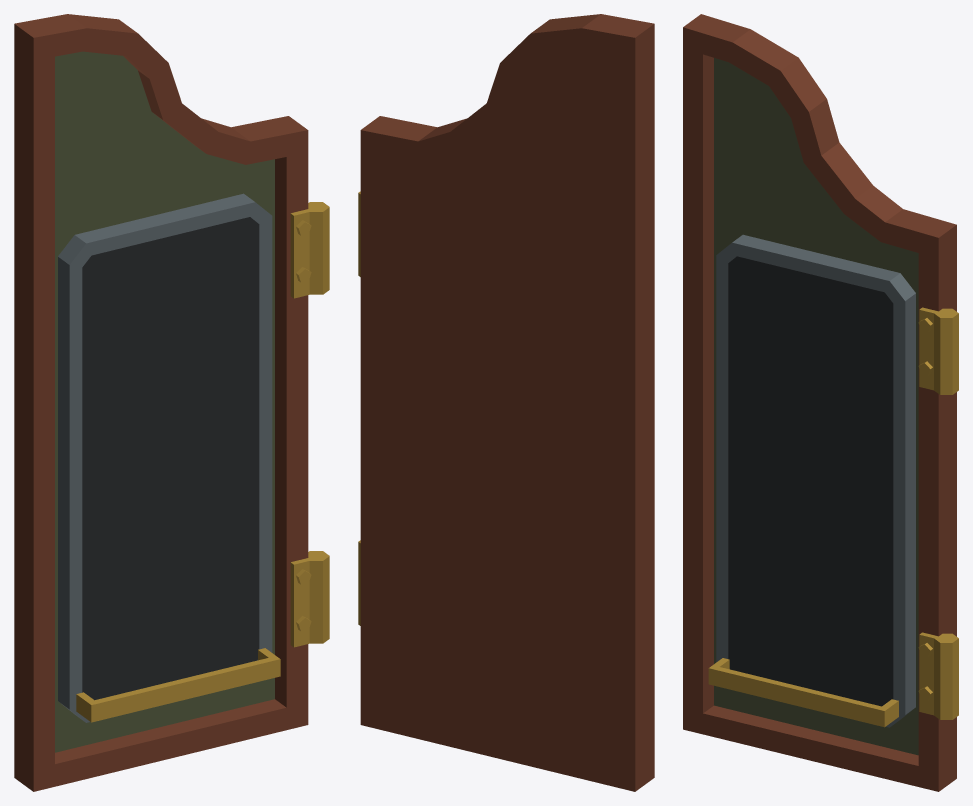
File: SM_Prop_Dartboard_01_Door_1.obj
The picture shows the model from 3 angles, left to right: view 1: azimuth 30°, elevation 25°; view 2: azimuth 150°, elevation 25°; view 3: azimuth 330°, elevation 25°; orthographic projection. The views are drawn at different scales.
Parts seen in each view (by area): view 1: SM_Prop_Dartboard_01_Door_1_0; view 2: SM_Prop_Dartboard_01_Door_1_0; view 3: SM_Prop_Dartboard_01_Door_1_0.
Part boxes in pixels (left/top/right/bottom): SM_Prop_Dartboard_01_Door_1_0: left=14, top=14, right=329, bottom=791; SM_Prop_Dartboard_01_Door_1_0: left=358, top=14, right=654, bottom=791; SM_Prop_Dartboard_01_Door_1_0: left=683, top=14, right=958, bottom=791.
Bounding box in the file's own units: 0.4349 × 1.07 × 0.089.
1 material, 1 textured.
